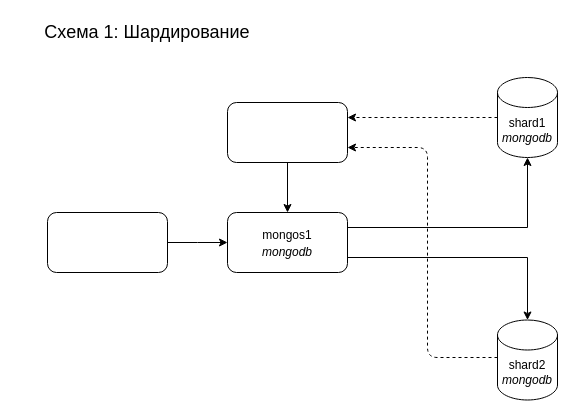
Some shapes in this 575 by 417 pixel diagram are drawn without their labels. Here are the shapes that lost their labels. From the top down, the centre of each, then its label:
At (x=287, y=132): "configSrv mongodb".
At (x=107, y=242): "pymongo-api python3".
